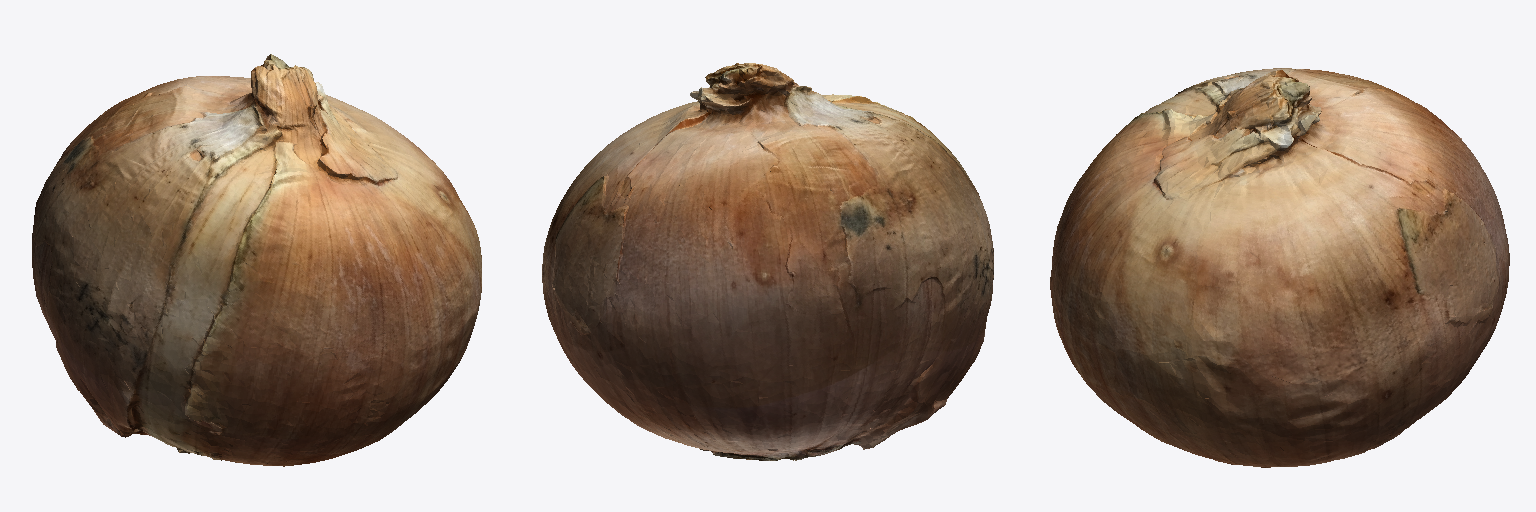
3 renders of one model, left to right at view 1: azimuth 30°, elevation 25°; view 2: azimuth 150°, elevation 25°; view 3: azimuth 270°, elevation 25°, orthographic.
Parts seen in each view (by area): view 1: onion; view 2: onion; view 3: onion.
Part boxes in pixels (x1,y1,x2,y2): onion: (32,54,481,466); onion: (542,63,993,460); onion: (1050,68,1509,467).
Size of the model in its own units: 0.3537 by 0.3263 by 0.3605.
1 materials, 1 textured.